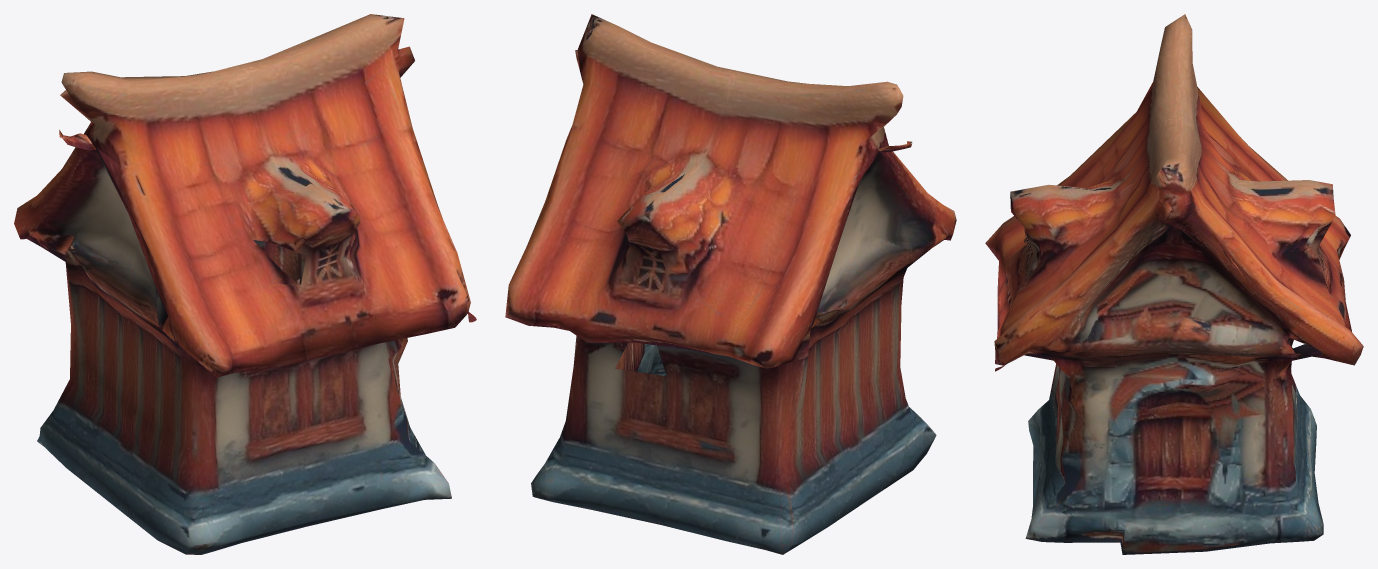
The model's file is fantasycottage3dmodel_clone1.glb.
3 views of the same model, side by side, from view 1: azimuth 30°, elevation 25°; view 2: azimuth 150°, elevation 25°; view 3: azimuth 270°, elevation 25° (orthographic). The views are drawn at different scales.
Parts seen in each view (by area): view 1: tripo_node_145de448-8beb-41b4-81ba-ca2019249a62; view 2: tripo_node_145de448-8beb-41b4-81ba-ca2019249a62; view 3: tripo_node_145de448-8beb-41b4-81ba-ca2019249a62.
Boxes of the visible parts, box(x1,y1,x2,y2) form: tripo_node_145de448-8beb-41b4-81ba-ca2019249a62: box(14, 14, 476, 554); tripo_node_145de448-8beb-41b4-81ba-ca2019249a62: box(505, 14, 956, 554); tripo_node_145de448-8beb-41b4-81ba-ca2019249a62: box(985, 14, 1363, 554).
Size of the model in its own units: 0.8105 by 0.9817 by 0.8443.
1 material, 1 textured.
